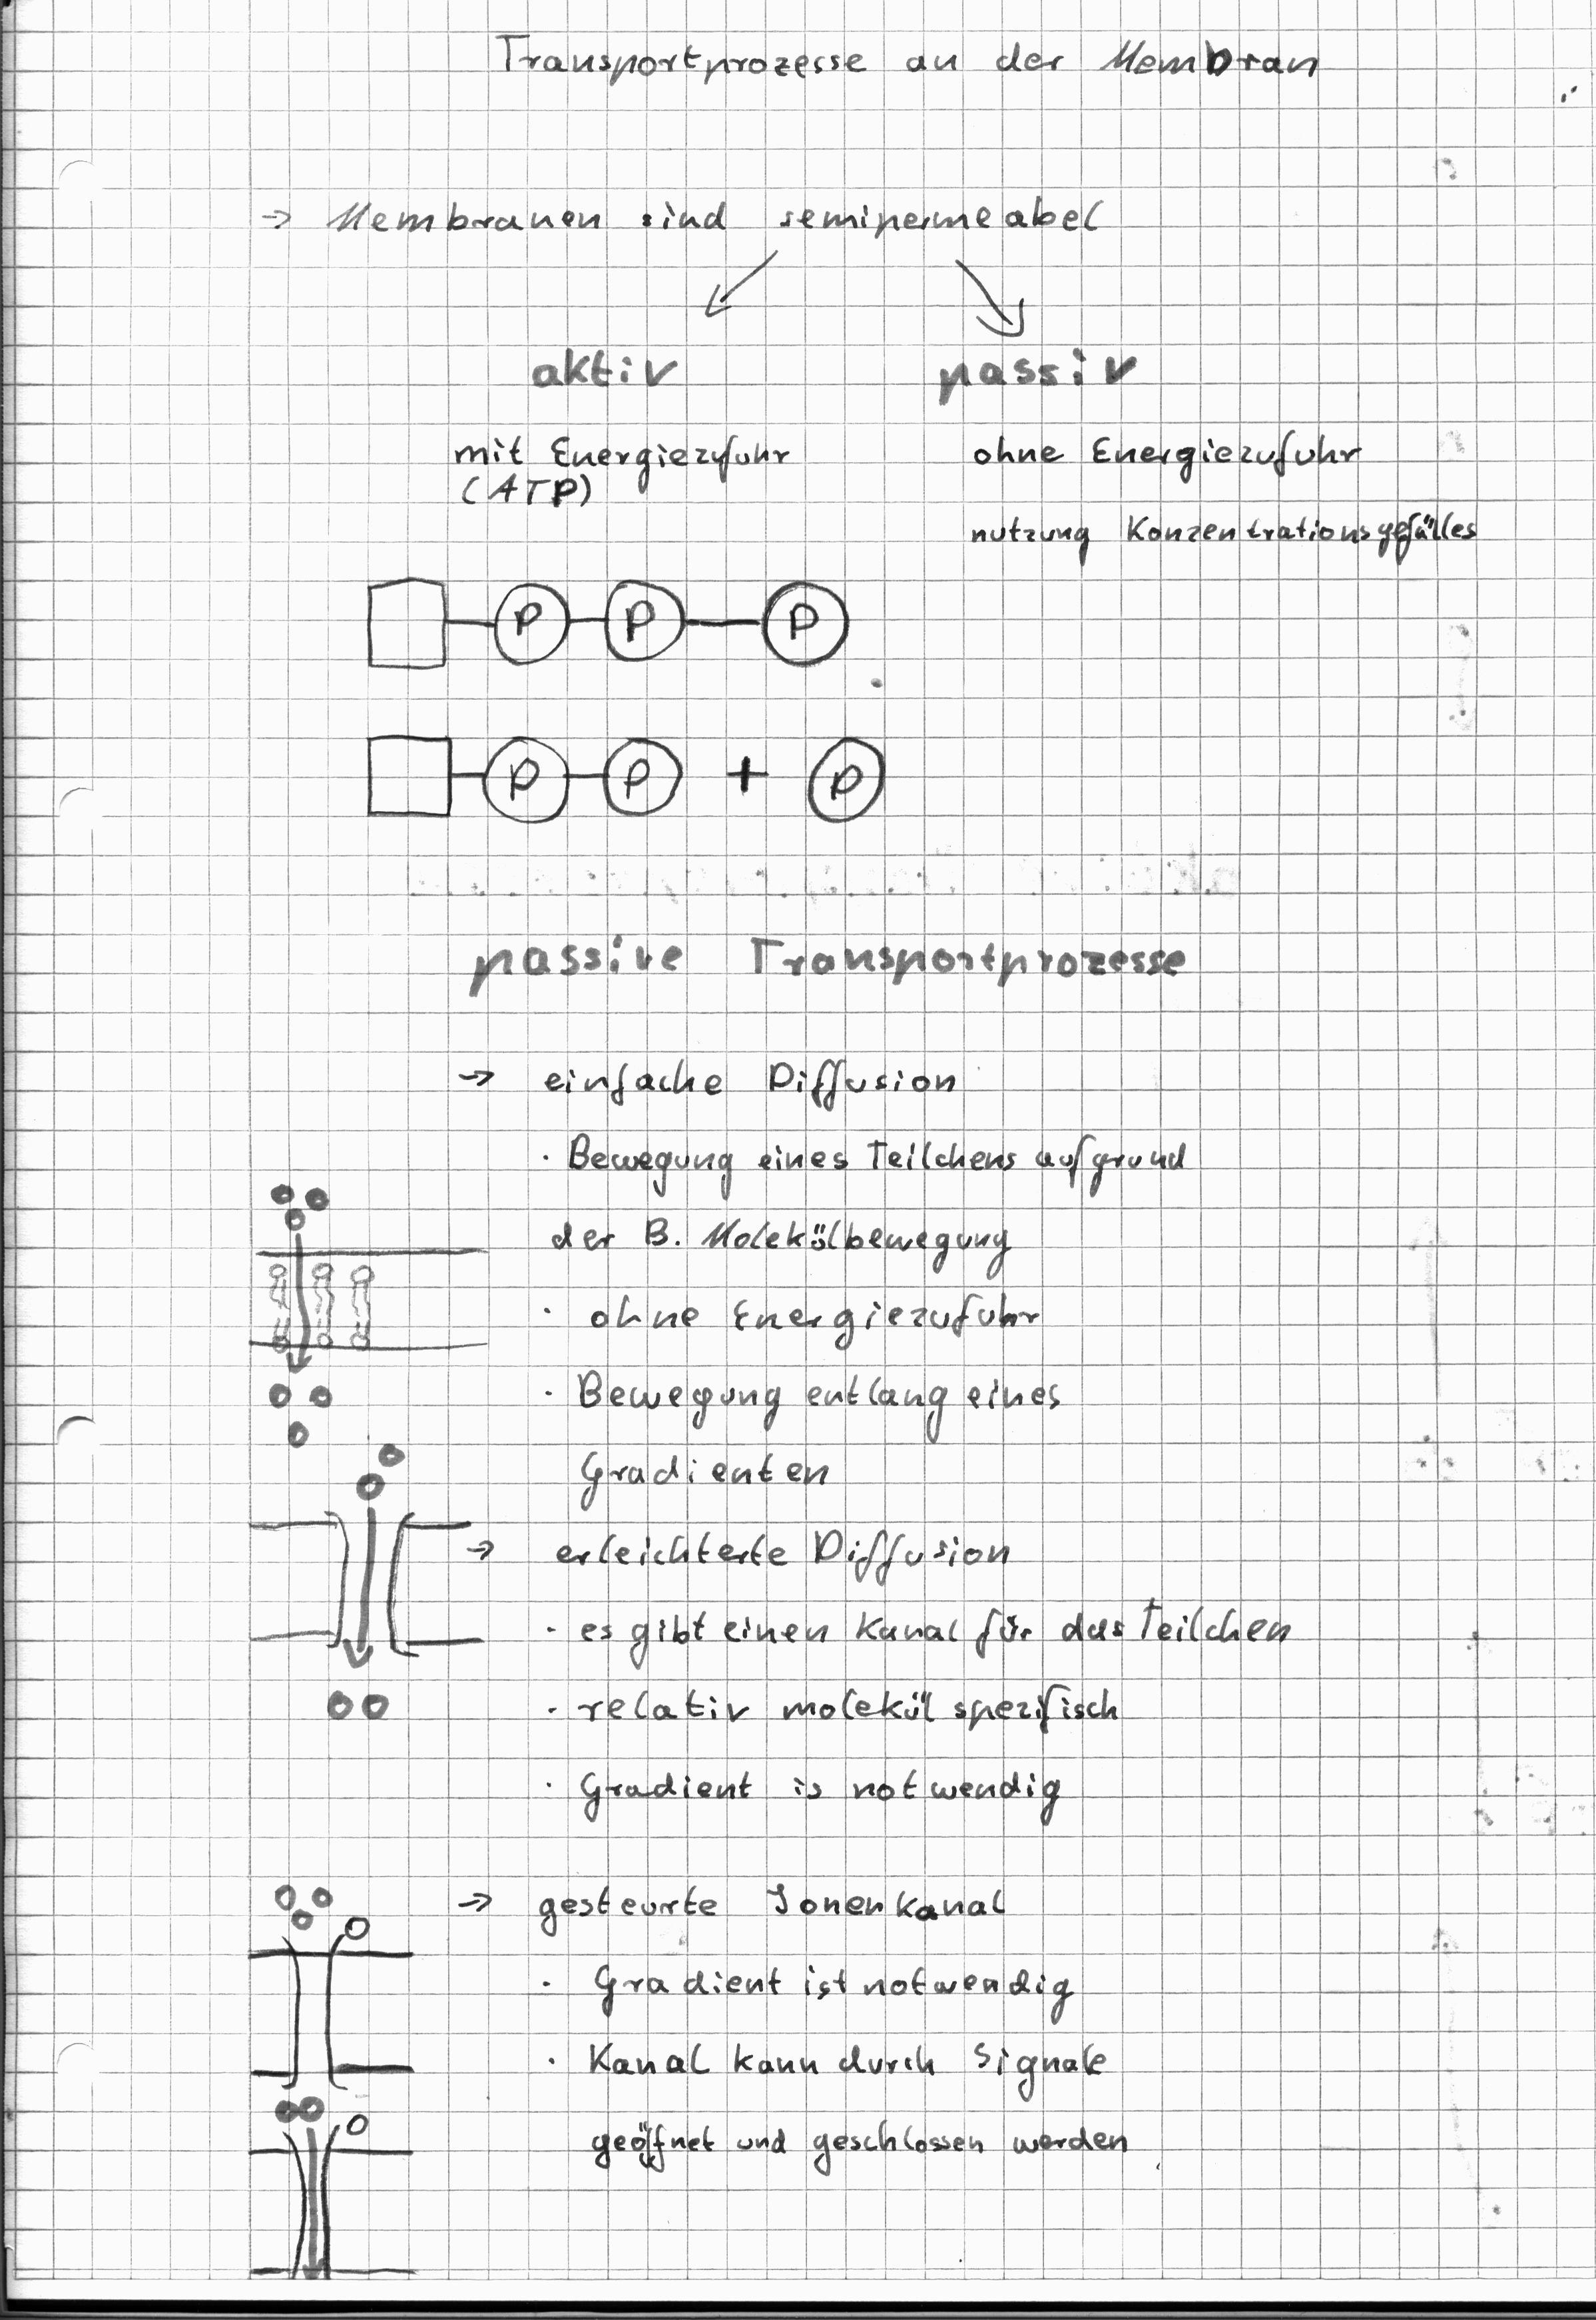word: (534, 1051, 1191, 1522), (539, 1523, 1295, 1842), (525, 1871, 1145, 2183), (957, 419, 1491, 581), (481, 11, 1328, 96), (248, 180, 1127, 254), (439, 406, 812, 524), (442, 1869, 517, 1930)
